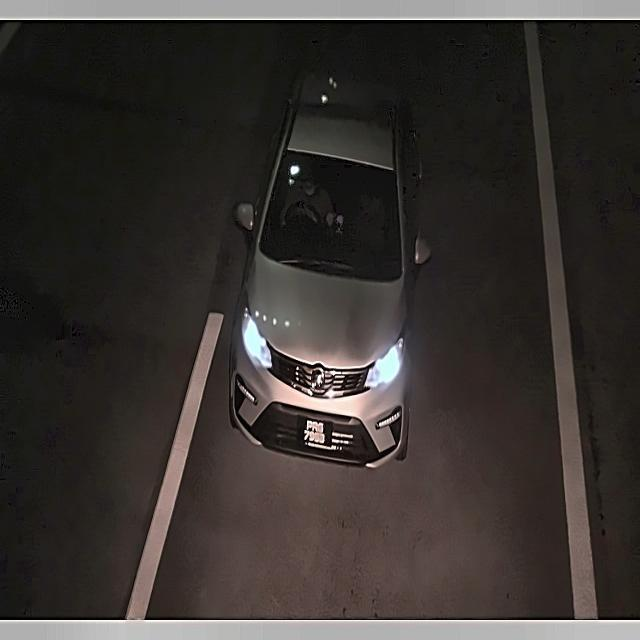car: (292, 408, 336, 452)
